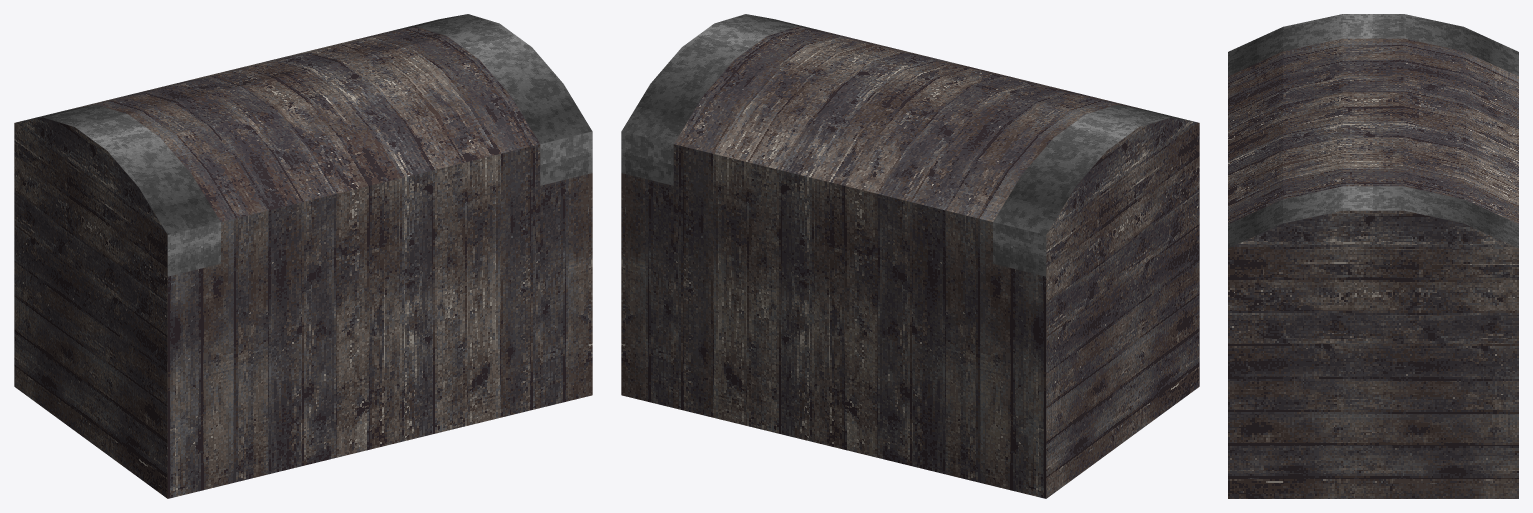
The model's file is trunk.glb.
3 renders of one model, left to right at view 1: azimuth 30°, elevation 25°; view 2: azimuth 150°, elevation 25°; view 3: azimuth 270°, elevation 25°, orthographic. The views are drawn at different scales.
Parts seen in each view (by area): view 1: Trunk; view 2: Trunk; view 3: Trunk.
Boxes of the visible parts, x1=… form: Trunk: x1=14, y1=14, x2=592, y2=498; Trunk: x1=621, y1=14, x2=1199, y2=498; Trunk: x1=1228, y1=14, x2=1518, y2=498.
Bounding box in the file's own units: 0.8 × 0.5469 × 0.5.
3 materials, 3 textured.
